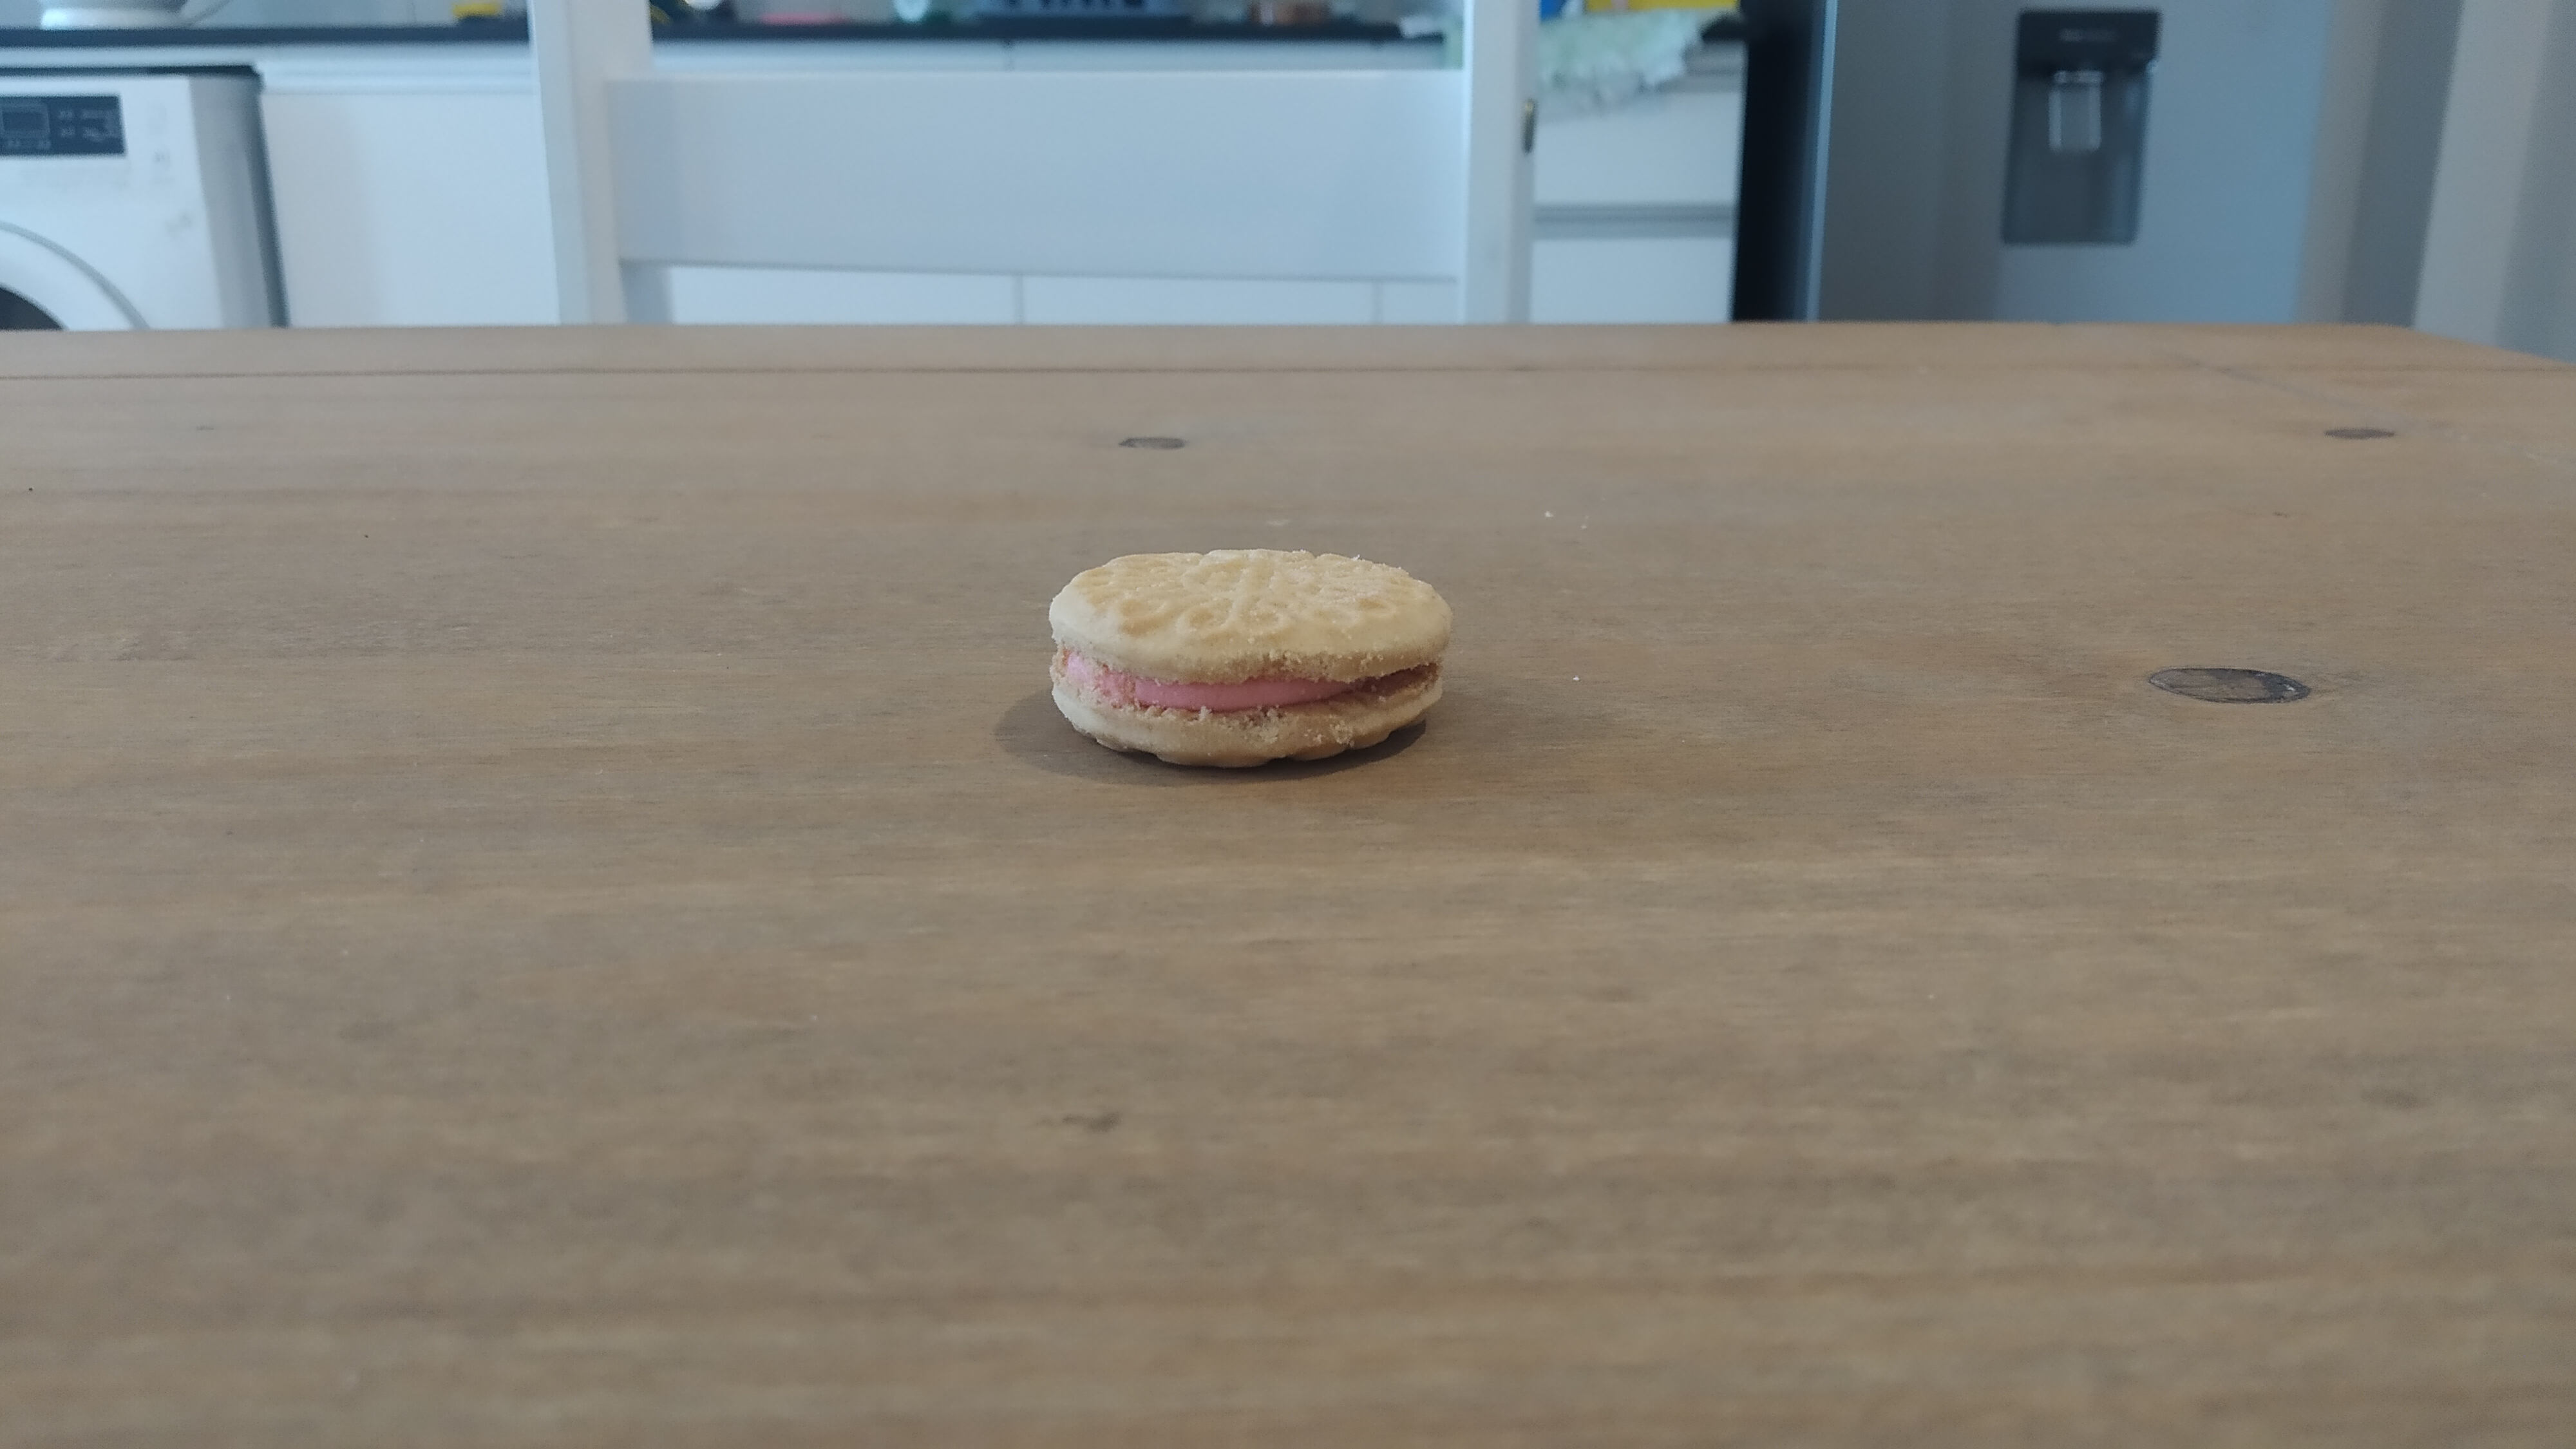lulu: (1047, 547, 1453, 768)
